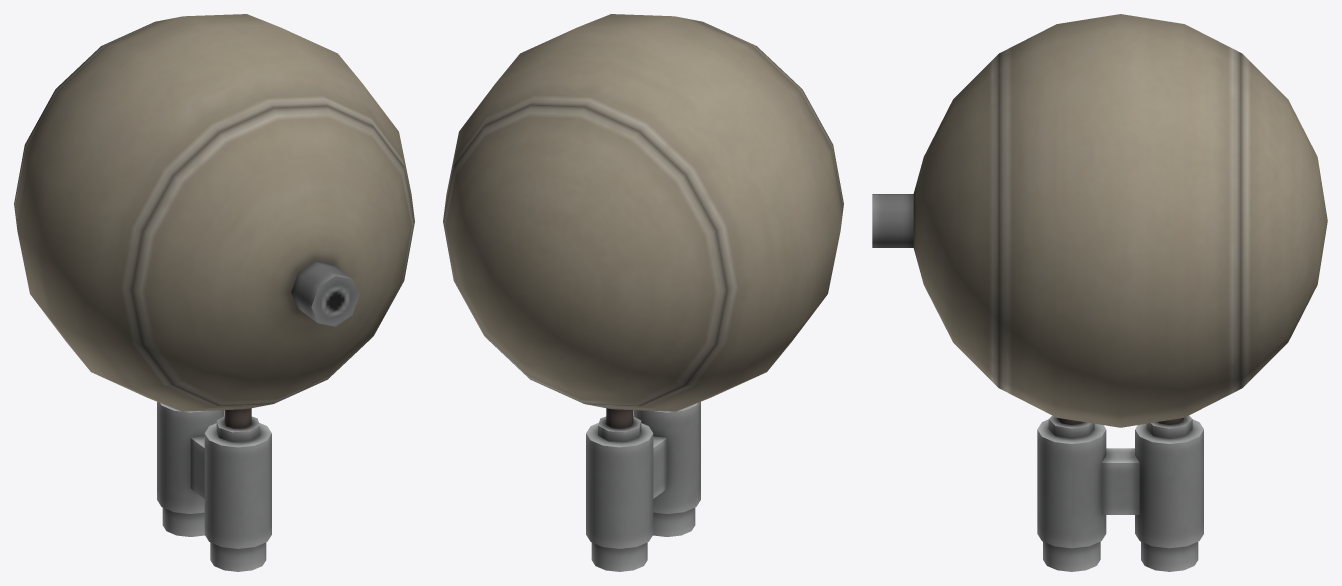
The model's file is Ara_Engine_1.obj.
The picture shows the model from 3 angles, left to right: view 1: azimuth 30°, elevation 25°; view 2: azimuth 150°, elevation 25°; view 3: azimuth 270°, elevation 25°; orthographic projection. The views are drawn at different scales.
Visible parts, largest first — view 1: Ara_Engine_1; view 2: Ara_Engine_1; view 3: Ara_Engine_1.
Part boxes in pixels (bbox=[...]): Ara_Engine_1: bbox=[14, 14, 414, 571]; Ara_Engine_1: bbox=[443, 14, 843, 571]; Ara_Engine_1: bbox=[872, 14, 1327, 571].
Bounding box in the file's own units: 0.45 × 0.6312 × 0.495.
